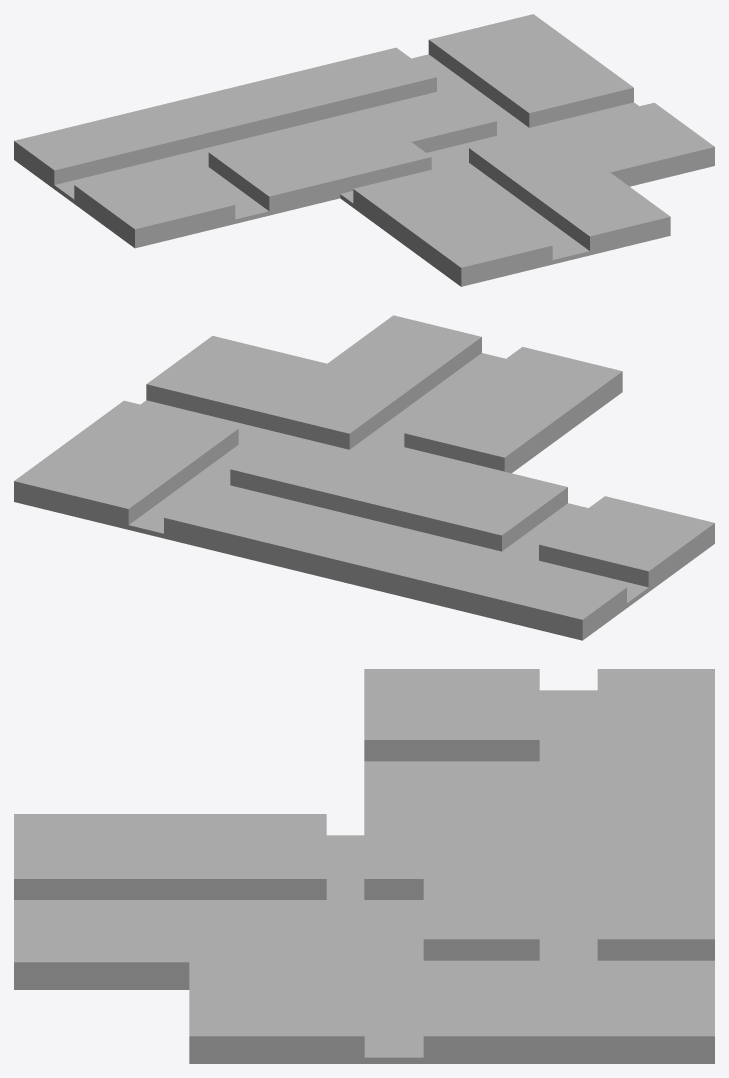
The model's file is floor01.glb.
3 views of the same model, one above another, from view 1: azimuth 30°, elevation 25°; view 2: azimuth 150°, elevation 25°; view 3: azimuth 270°, elevation 25° (orthographic). The views are drawn at different scales.
Parts seen in each view (by area): view 1: floor_room_3, floor_room_5, floor_room_2, floor_room_4, floor_room_1, floor_top, floor_room_0, floor_side; view 2: floor_room_3, floor_room_5, floor_room_2, floor_room_4, floor_room_1, floor_top, floor_room_0, floor_side; view 3: floor_room_5, floor_room_3, floor_top, floor_room_2, floor_room_4, floor_room_1, floor_room_0, floor_side.
Part boxes in pixels (left/top/right/bottom): floor_room_3: left=14, top=47, right=436, bottom=184; floor_room_5: left=469, top=102, right=714, bottom=250; floor_room_2: left=208, top=92, right=496, bottom=211; floor_room_4: left=428, top=14, right=633, bottom=127; floor_room_1: left=353, top=166, right=552, bottom=282; floor_top: left=55, top=54, right=638, bottom=259; floor_room_0: left=74, top=160, right=235, bottom=243; floor_side: left=14, top=156, right=714, bottom=286; floor_room_3: left=164, top=485, right=626, bottom=635; floor_room_5: left=146, top=315, right=481, bottom=449; floor_room_2: left=230, top=437, right=567, bottom=551; floor_room_4: left=14, top=400, right=238, bottom=524; floor_room_1: left=404, top=347, right=622, bottom=471; floor_top: left=129, top=353, right=648, bottom=602; floor_room_0: left=539, top=496, right=714, bottom=587; floor_side: left=14, top=387, right=714, bottom=640; floor_room_5: left=14, top=905, right=364, bottom=1057; floor_room_3: left=597, top=669, right=714, bottom=960; floor_top: left=14, top=690, right=714, bottom=1057; floor_room_2: left=364, top=764, right=539, bottom=960; floor_room_4: left=423, top=962, right=714, bottom=1057; floor_room_1: left=14, top=814, right=326, bottom=899; floor_room_0: left=364, top=669, right=539, bottom=761; floor_side: left=14, top=983, right=714, bottom=1063.
Bounding box in the file's own units: 124 × 4.34 × 100.
Materials: 2 (2 with a texture image).
